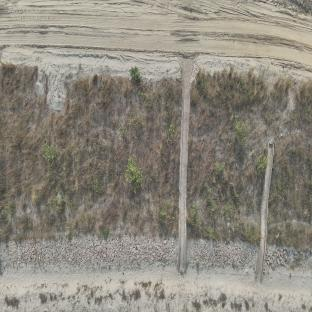rock_toe: (0, 236, 178, 272), (189, 241, 254, 265), (266, 245, 312, 278)
slope_drain: (178, 58, 193, 274), (256, 140, 274, 281)
vegetation: (194, 116, 256, 228)
